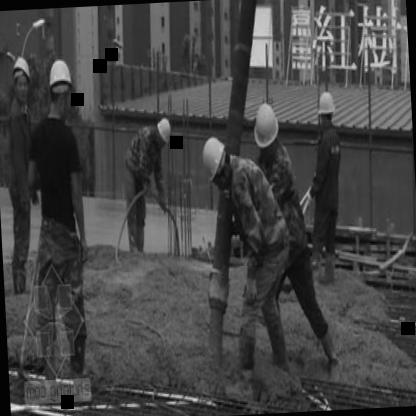helmet: (251, 97, 282, 159), (45, 55, 74, 120), (198, 130, 230, 186), (11, 50, 32, 98), (316, 84, 336, 127), (154, 110, 174, 152)
